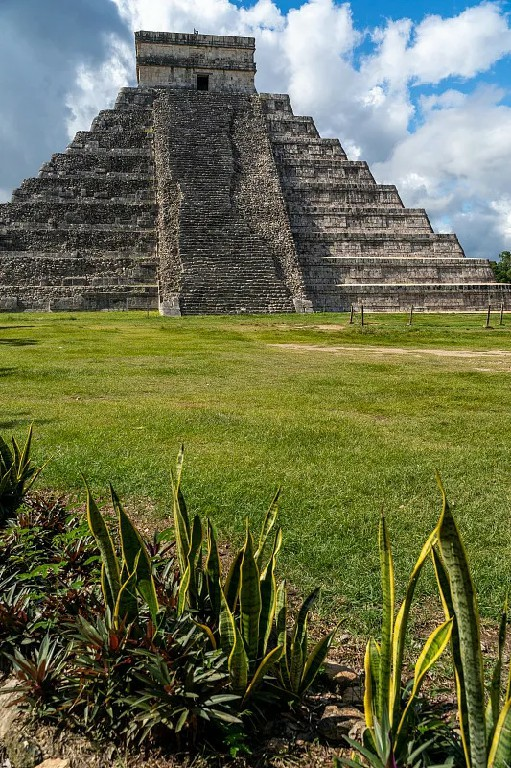Pyramid: (2, 32, 511, 313)
